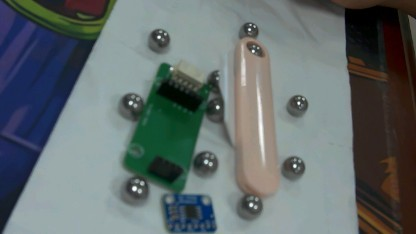ironball: (117, 88, 147, 122), (279, 151, 309, 184), (236, 191, 261, 223), (191, 149, 219, 177), (123, 174, 147, 204), (147, 26, 170, 50), (286, 91, 308, 115), (207, 100, 230, 121), (206, 66, 226, 90), (237, 17, 262, 35)
